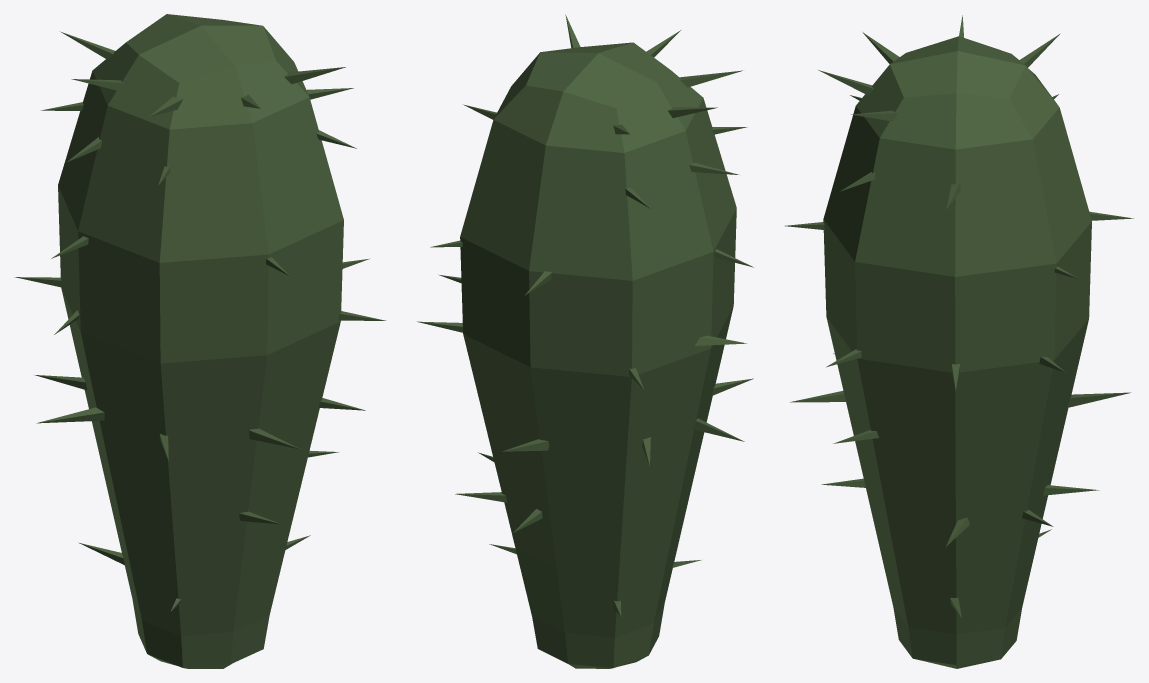
File: Cactus_3.glb
3 renders of one model, left to right at view 1: azimuth 30°, elevation 25°; view 2: azimuth 150°, elevation 25°; view 3: azimuth 270°, elevation 25°, orthographic. The views are drawn at different scales.
Visible parts, largest first — view 1: Cactus_3_Cube.019; view 2: Cactus_3_Cube.019; view 3: Cactus_3_Cube.019.
Boxes of the visible parts, x1=… form: Cactus_3_Cube.019: x1=14, y1=14, x2=386, y2=668; Cactus_3_Cube.019: x1=417, y1=14, x2=753, y2=668; Cactus_3_Cube.019: x1=785, y1=15, x2=1133, y2=668.
Size of the model in its own units: 0.3937 by 0.7217 by 0.382.
